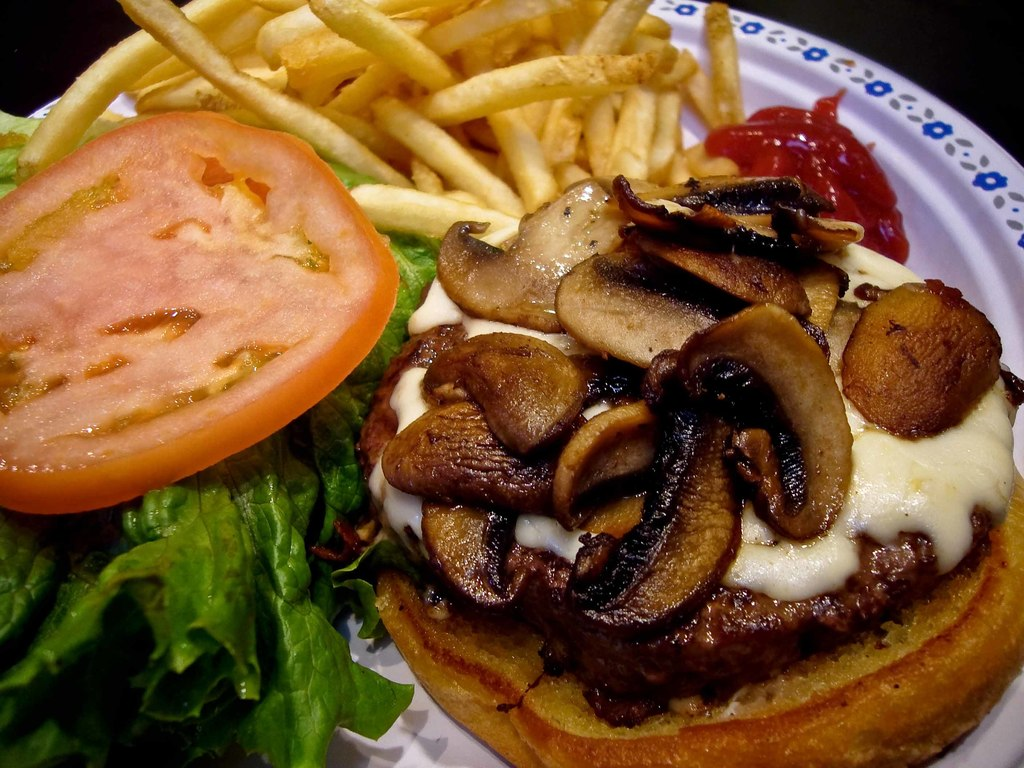French fries: (99, 0, 740, 224)
